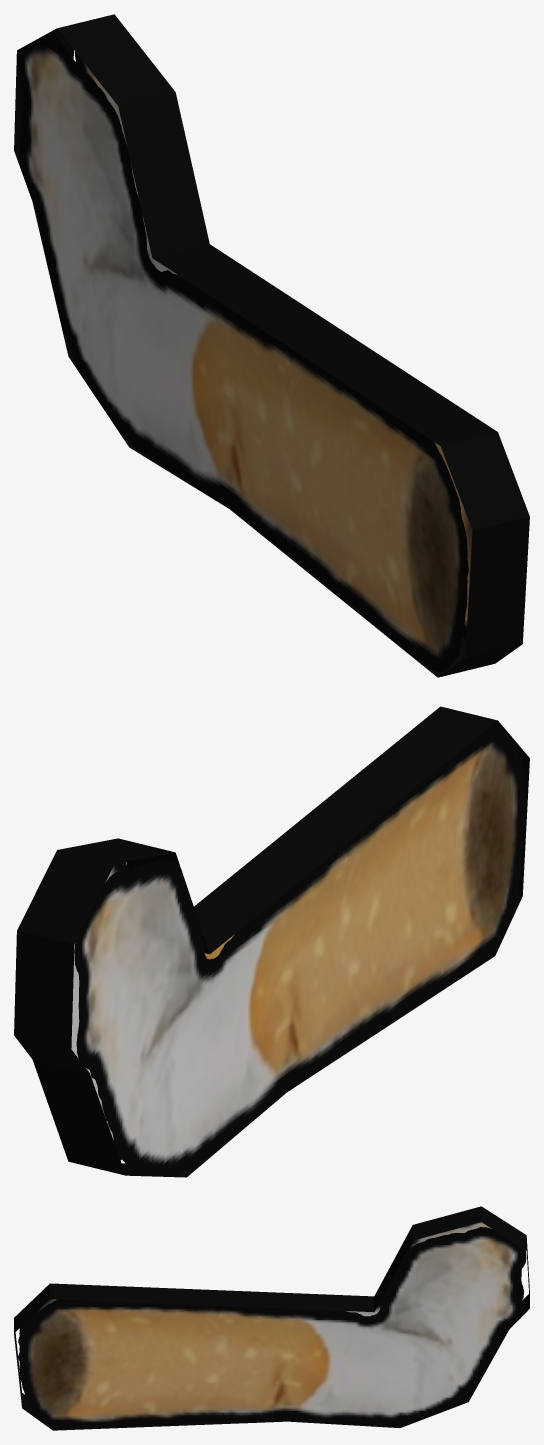
File: Ciggies.fbx
The picture shows the model from 3 angles, top to bottom: view 1: azimuth 30°, elevation 25°; view 2: azimuth 150°, elevation 25°; view 3: azimuth 270°, elevation 25°; orthographic projection. The views are drawn at different scales.
Visible parts, largest first — view 1: Ciggie; view 2: Ciggie; view 3: Ciggie.
Boxes of the visible parts, x1=… form: Ciggie: x1=14, y1=14, x2=529, y2=677; Ciggie: x1=14, y1=706, x2=529, y2=1177; Ciggie: x1=14, y1=1206, x2=529, y2=1430.
Bounding box in the file's own units: 2.94 × 18.15 × 40.69.
